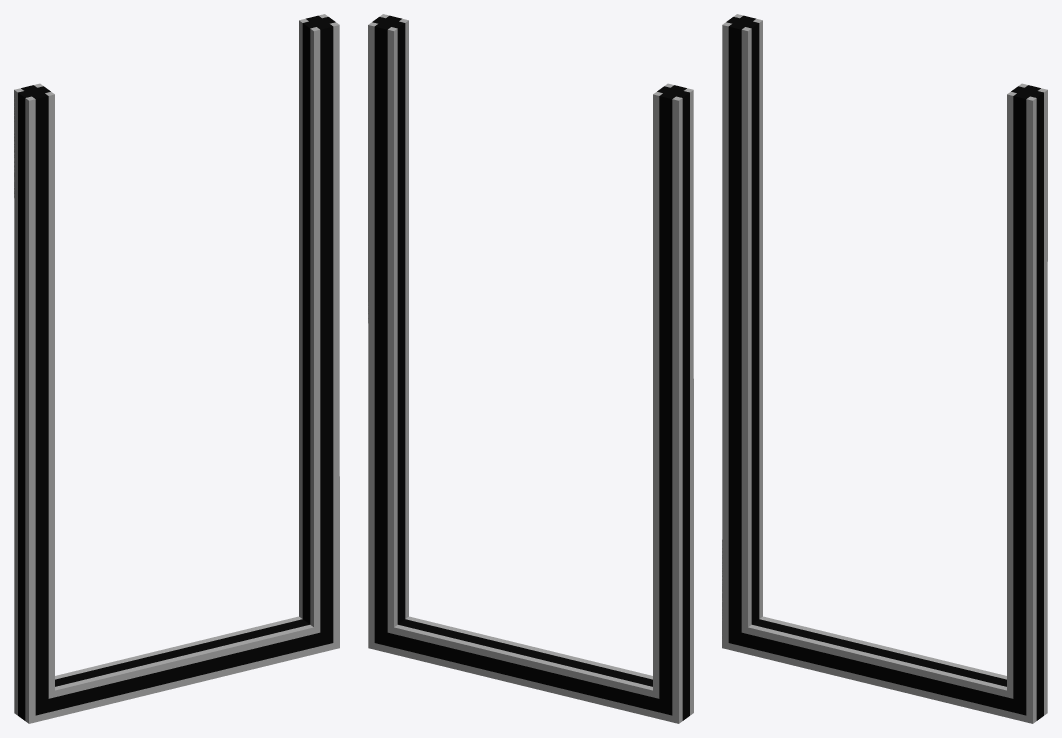
Rendered from TetrisFrame2.fbx.
3 views of the same model, side by side, from view 1: azimuth 30°, elevation 25°; view 2: azimuth 150°, elevation 25°; view 3: azimuth 330°, elevation 25° (orthographic).
Parts seen in each view (by area): view 1: Cube; view 2: Cube; view 3: Cube.
Boxes of the visible parts, bbox=[...] form: Cube: bbox=[14, 14, 339, 723]; Cube: bbox=[368, 14, 693, 723]; Cube: bbox=[722, 14, 1047, 723].
Size of the model in its own units: 2400 by 4600 by 200.
